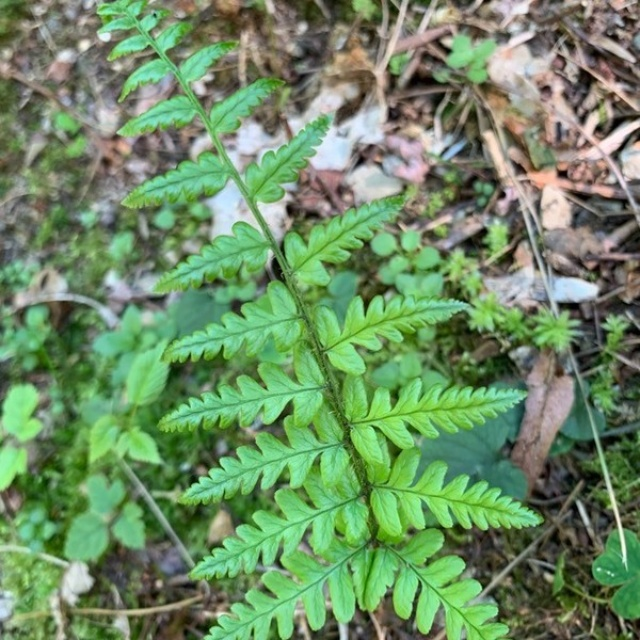obstacle: (97, 64, 496, 590)
